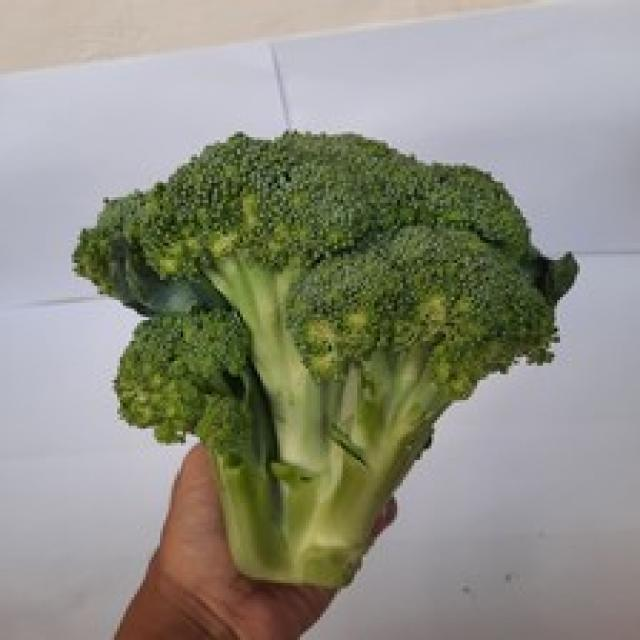Broccoli: (74, 135, 574, 459), (74, 135, 575, 453)
